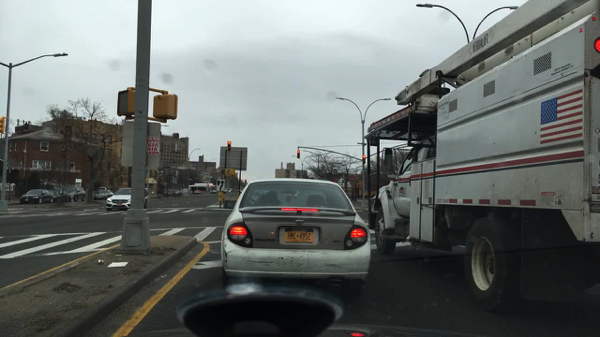bus: (188, 186, 211, 195)
car: (220, 177, 372, 301), (104, 187, 148, 211), (19, 189, 55, 204), (64, 188, 86, 203), (94, 190, 115, 200), (55, 189, 66, 196), (174, 190, 183, 198), (115, 199, 116, 203)
traffic light: (154, 94, 178, 121), (115, 89, 135, 116), (0, 119, 5, 136), (333, 178, 338, 184), (228, 142, 231, 151), (364, 156, 367, 165), (297, 151, 300, 159)
traffic sign: (219, 147, 247, 171), (216, 179, 226, 192)
truck: (365, 0, 599, 315), (193, 183, 215, 194)
